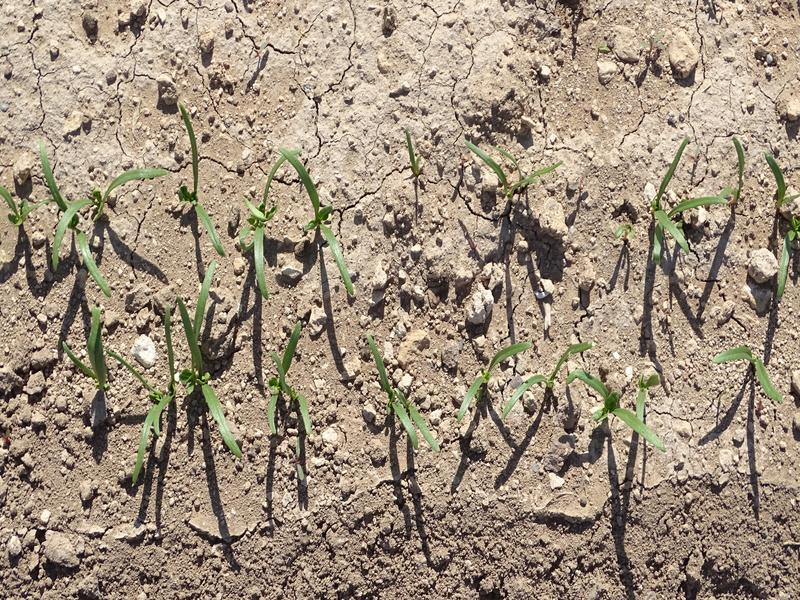Espinaca: (73, 268, 231, 480), (454, 344, 669, 451), (250, 156, 362, 296), (36, 149, 131, 291), (357, 333, 446, 451), (643, 141, 722, 259), (253, 328, 317, 445), (173, 119, 227, 248), (455, 142, 567, 192), (714, 346, 781, 409), (770, 166, 800, 286)
